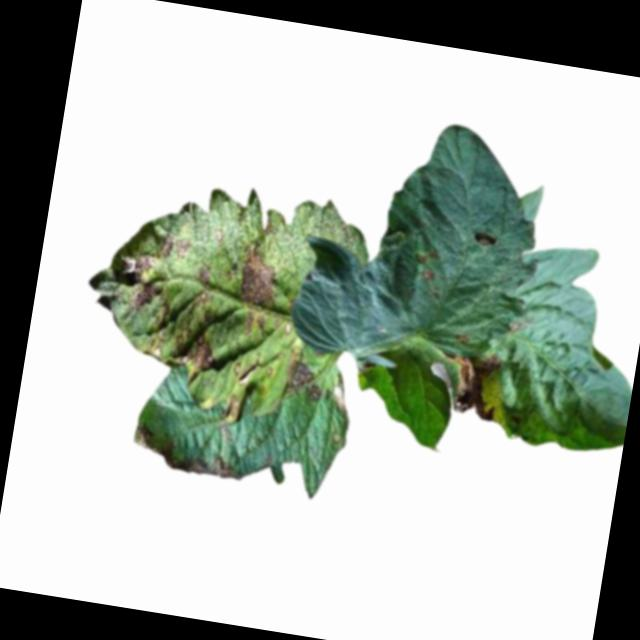Early_blight: (129, 423, 248, 482), (233, 240, 287, 344), (142, 317, 219, 374), (448, 349, 508, 422), (120, 225, 191, 284), (279, 342, 327, 399), (122, 276, 172, 327), (412, 243, 445, 283), (195, 260, 215, 288), (473, 230, 499, 247)
